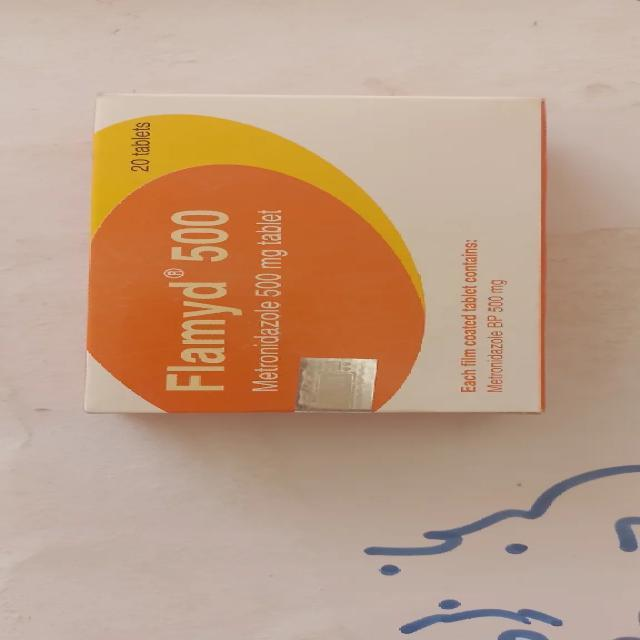drug-name: (164, 204, 243, 398)
